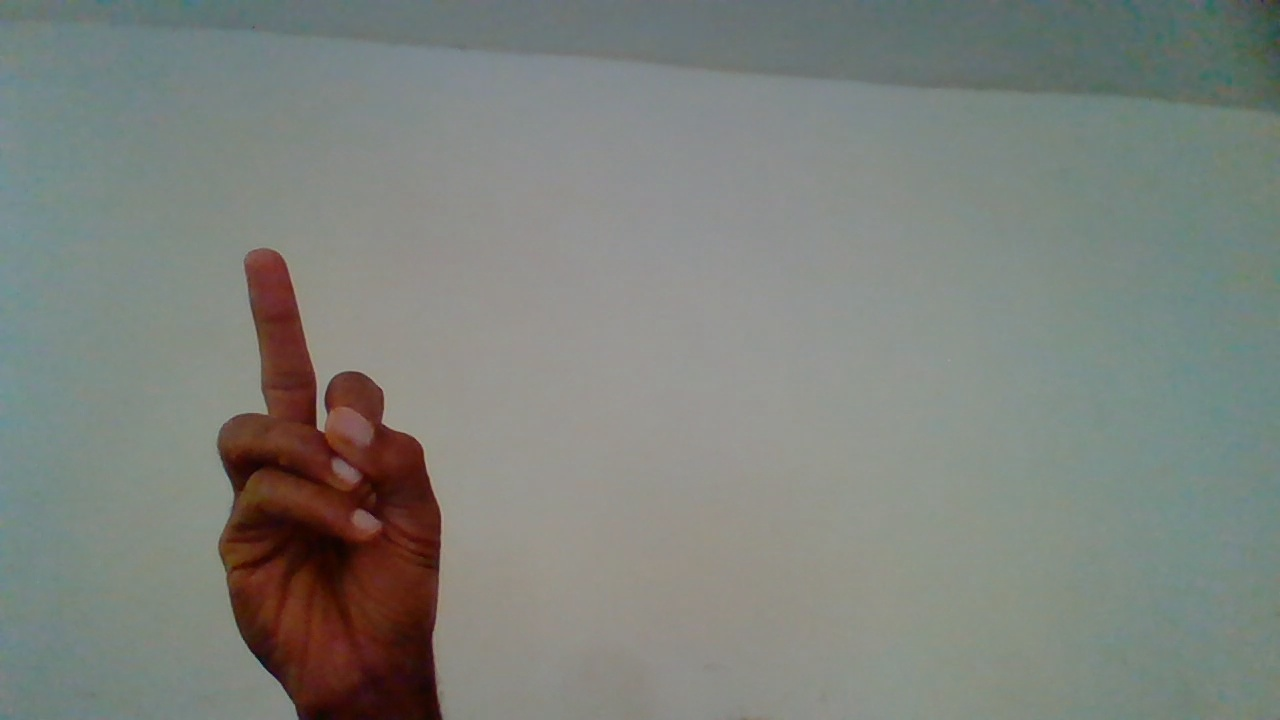he: (220, 249, 455, 718)
